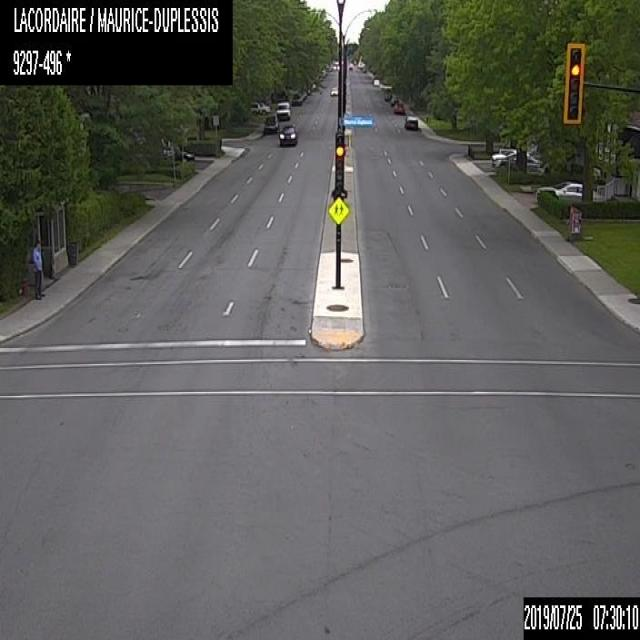pedestrian: (31, 240, 44, 297)
vehicle: (536, 180, 582, 203), (491, 150, 539, 170), (278, 121, 295, 144), (263, 113, 280, 136), (274, 98, 291, 121), (172, 148, 194, 161), (404, 114, 417, 129), (392, 100, 405, 113), (290, 92, 302, 105), (259, 101, 269, 114), (383, 88, 393, 99), (390, 94, 400, 105), (250, 101, 258, 114), (328, 85, 337, 95), (371, 76, 379, 85)
